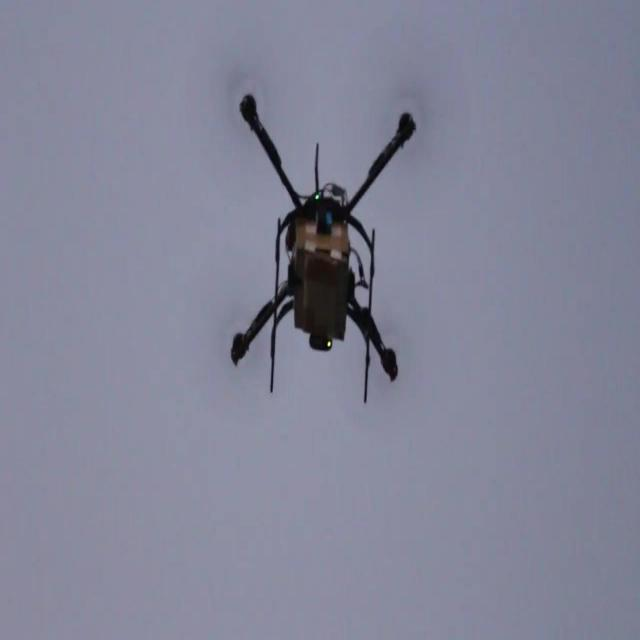UAV: (230, 92, 416, 406)
